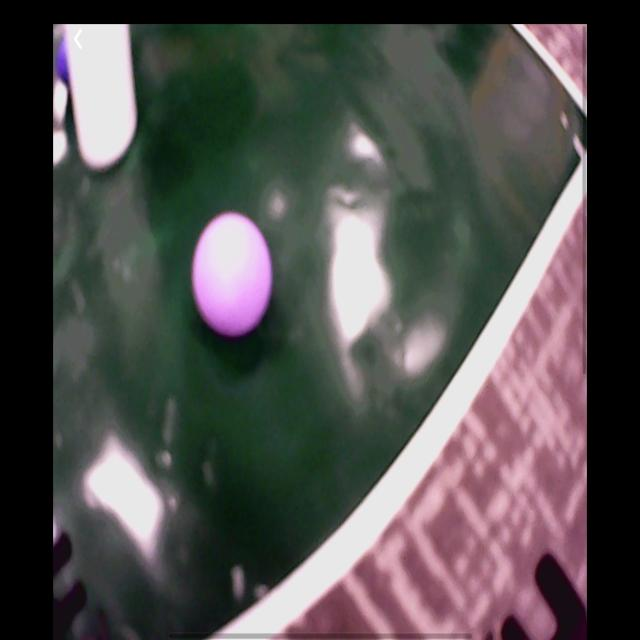ball: (195, 214, 271, 338), (56, 36, 70, 88)
